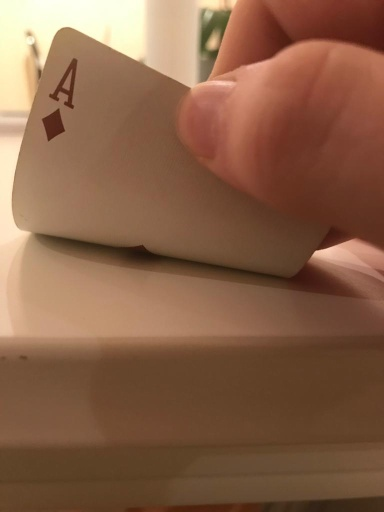Da: (42, 51, 83, 143)
